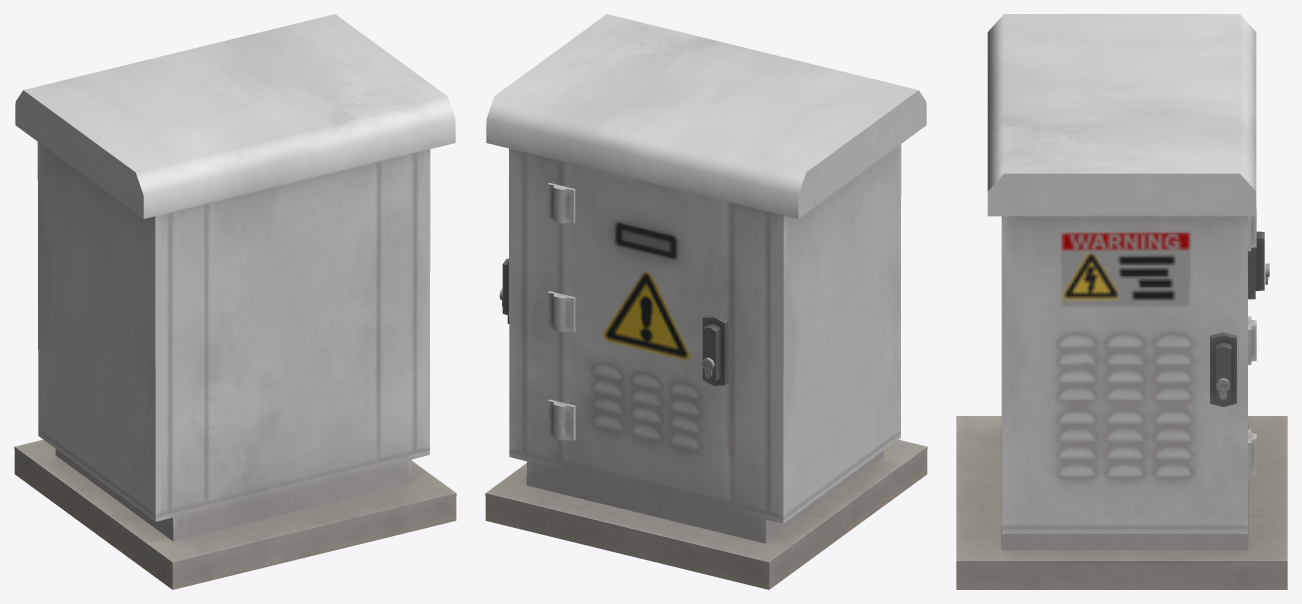
File: Pfb_ElectricBox.fbx
The picture shows the model from 3 angles, left to right: view 1: azimuth 30°, elevation 25°; view 2: azimuth 150°, elevation 25°; view 3: azimuth 270°, elevation 25°; orthographic projection. The views are drawn at different scales.
Parts seen in each view (by area): view 1: Mat_ElectricBox_01; view 2: Mat_ElectricBox_01; view 3: Mat_ElectricBox_01.
Part boxes in pixels (<box>): Mat_ElectricBox_01: <box>14,14,456,589</box>; Mat_ElectricBox_01: <box>485,14,927,589</box>; Mat_ElectricBox_01: <box>956,14,1287,589</box>.
Size of the model in its own units: 1.13 by 1.4 by 0.9902.
Materials: 1 (1 with a texture image).
